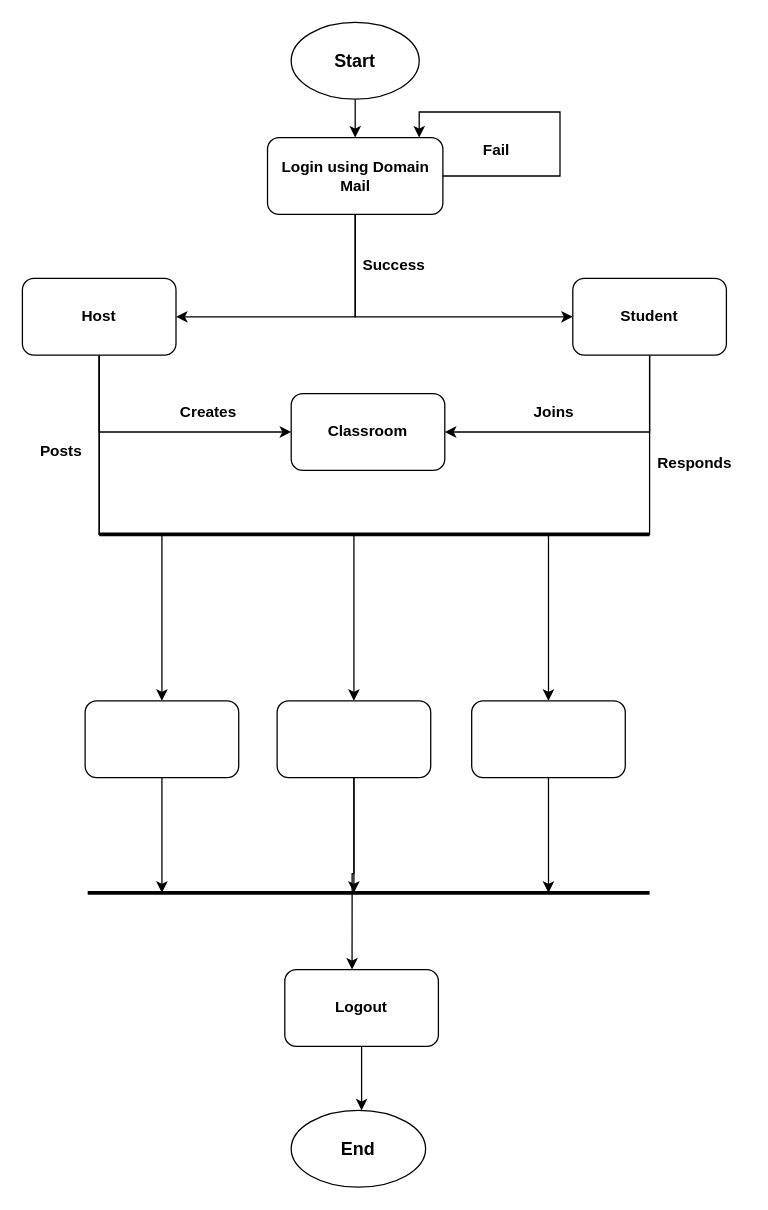
This 768x1210 diagram has some shape labels left out. Here are the shapes that lost their labels. From the top down, the box of each, then its label:
(84, 700, 239, 778): Quiz
(276, 700, 431, 778): Assignment
(470, 700, 625, 778): Pole
